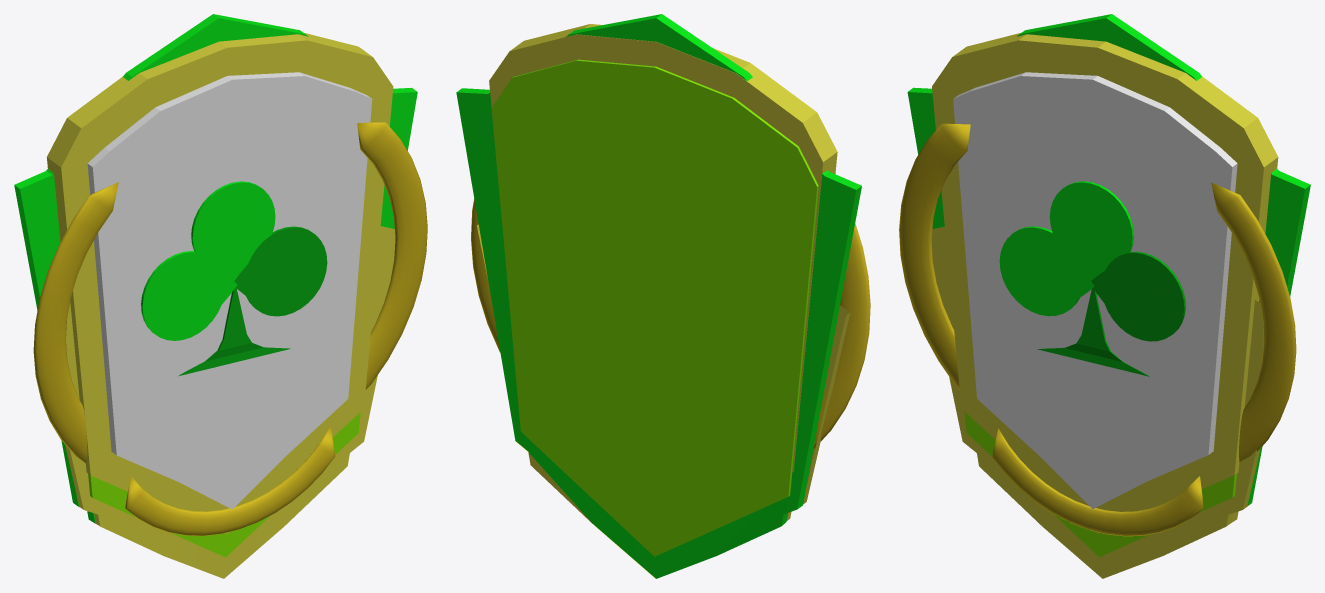
Rendered from Shield_White_3.fbx.
3 views of the same model, side by side, from view 1: azimuth 30°, elevation 25°; view 2: azimuth 150°, elevation 25°; view 3: azimuth 330°, elevation 25° (orthographic).
Parts seen in each view (by area): view 1: Cube.012, Cube.015, Torus, Cube.011, Cube.014, Cylinder.008, Cylinder.007, Torus.001, Cylinder.006, Cube.010, Cube.013; view 2: Cube.010, Cube.014, Cube.015, Torus, Cube.011; view 3: Cube.012, Cube.015, Torus, Cube.011, Cube.014, Cylinder.007, Cylinder.008, Torus.001, Cylinder.006, Cube.010, Cube.013.
Part boxes in pixels (left/top/right/bottom): Cube.012: left=87, top=72, right=372, bottom=509; Cube.015: left=46, top=33, right=393, bottom=534; Torus: left=33, top=122, right=427, bottom=463; Cube.011: left=65, top=226, right=395, bottom=578; Cube.014: left=14, top=14, right=417, bottom=524; Cylinder.008: left=141, top=251, right=237, bottom=340; Cylinder.007: left=234, top=226, right=327, bottom=316; Torus.001: left=125, top=426, right=335, bottom=535; Cylinder.006: left=191, top=181, right=275, bottom=280; Cube.010: left=88, top=412, right=360, bottom=557; Cube.013: left=178, top=287, right=290, bottom=376; Cube.010: left=492, top=59, right=818, bottom=556; Cube.014: left=456, top=14, right=861, bottom=578; Cube.015: left=489, top=24, right=837, bottom=472; Torus: left=471, top=199, right=870, bottom=449; Cube.011: left=477, top=224, right=850, bottom=578; Cube.012: left=953, top=72, right=1237, bottom=508; Cube.015: left=932, top=32, right=1278, bottom=533; Torus: left=899, top=123, right=1296, bottom=461; Cube.011: left=931, top=226, right=1263, bottom=578; Cube.014: left=907, top=14, right=1310, bottom=505; Cylinder.007: left=1091, top=251, right=1185, bottom=341; Cylinder.008: left=999, top=226, right=1094, bottom=316; Torus.001: left=992, top=428, right=1203, bottom=536; Cylinder.006: left=1049, top=181, right=1133, bottom=280; Cube.010: left=964, top=412, right=1236, bottom=557; Cube.013: left=1037, top=288, right=1149, bottom=376.
Size of the model in its own units: 614 by 822 by 73.82.
